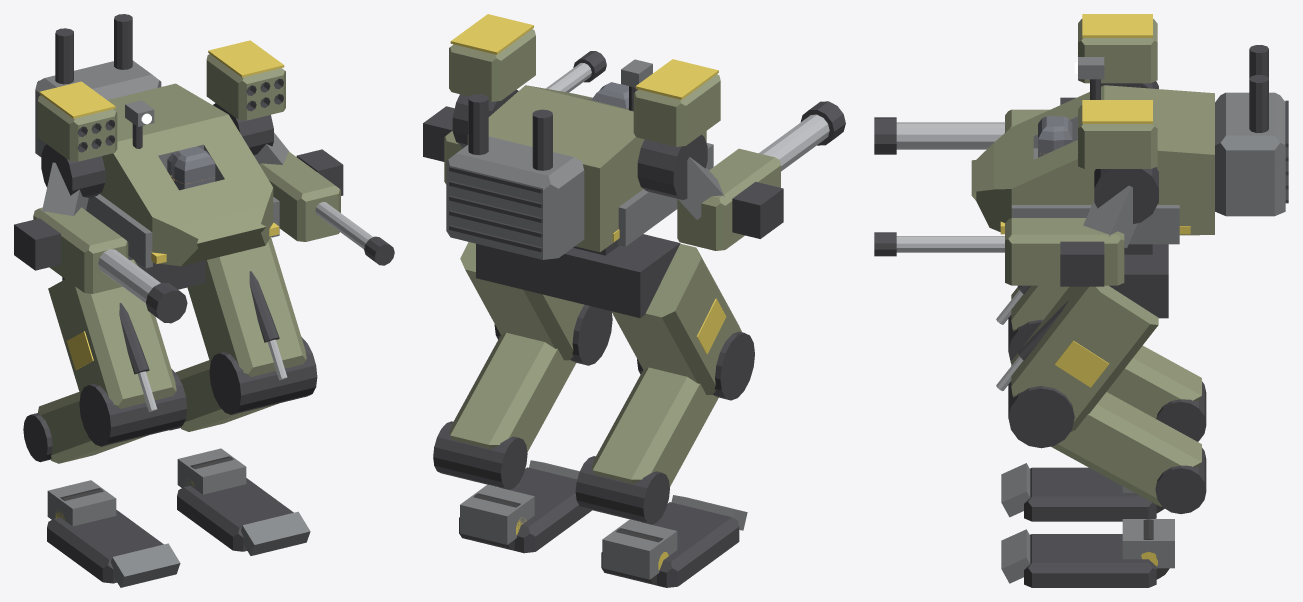
File: harrow.glb
3 views of the same model, side by side, from view 1: azimuth 30°, elevation 25°; view 2: azimuth 150°, elevation 25°; view 3: azimuth 270°, elevation 25° (orthographic). The views are drawn at different scales.
Parts seen in each view (by area): view 1: hull, thigh1, thigh-1, knee1, knee-1, gunpod-1, foot1_sole, foot-1_sole, gunpod1, rack-1, rack1, pack (+28 smaller); view 2: pack, hull, hips, shin-1, thigh-1, shin1, thigh1, gunpod-1, foot-1_sole, rack-1, rack1, foot1_sole (+28 smaller); view 3: hull, thigh1, shin1, pack, foot1_sole, gunpod1, foot-1_sole, shin-1, rack1, knee1, rack-1, barrel-1 (+22 smaller).
Part boxes in pixels (x1,y1,x2,y2): hull: (100, 83, 273, 266); thigh1: (187, 237, 306, 376); thigh-1: (48, 259, 176, 408); knee1: (209, 337, 317, 414); knee-1: (79, 369, 187, 446); gunpod-1: (33, 207, 128, 293); foot1_sole: (177, 478, 293, 551); foot-1_sole: (47, 510, 163, 583); gunpod1: (259, 151, 340, 241); rack-1: (37, 95, 117, 161); rack1: (206, 54, 285, 120); pack: (35, 60, 161, 156); pack: (446, 136, 584, 259); hull: (467, 85, 706, 252); hips: (476, 234, 680, 317); shin-1: (591, 367, 718, 486); thigh-1: (611, 243, 741, 394); shin1: (449, 332, 576, 452); thigh1: (460, 242, 584, 360); gunpod-1: (677, 148, 780, 250); foot-1_sole: (601, 502, 739, 587); rack-1: (633, 74, 720, 146); rack1: (449, 29, 535, 101); foot1_sole: (459, 467, 591, 553); hull: (971, 85, 1214, 235); thigh1: (1011, 285, 1158, 431); shin1: (1051, 392, 1201, 506); pack: (1215, 92, 1285, 216); foot1_sole: (1024, 534, 1156, 587); gunpod1: (1005, 218, 1124, 285); foot-1_sole: (1024, 467, 1156, 521); shin-1: (1106, 345, 1201, 418); rack1: (1078, 105, 1157, 168); knee1: (1008, 381, 1074, 448); rack-1: (1078, 19, 1157, 83); barrel-1: (896, 122, 1005, 149).
Size of the model in its own units: 18.48 by 26.02 by 20.6.
